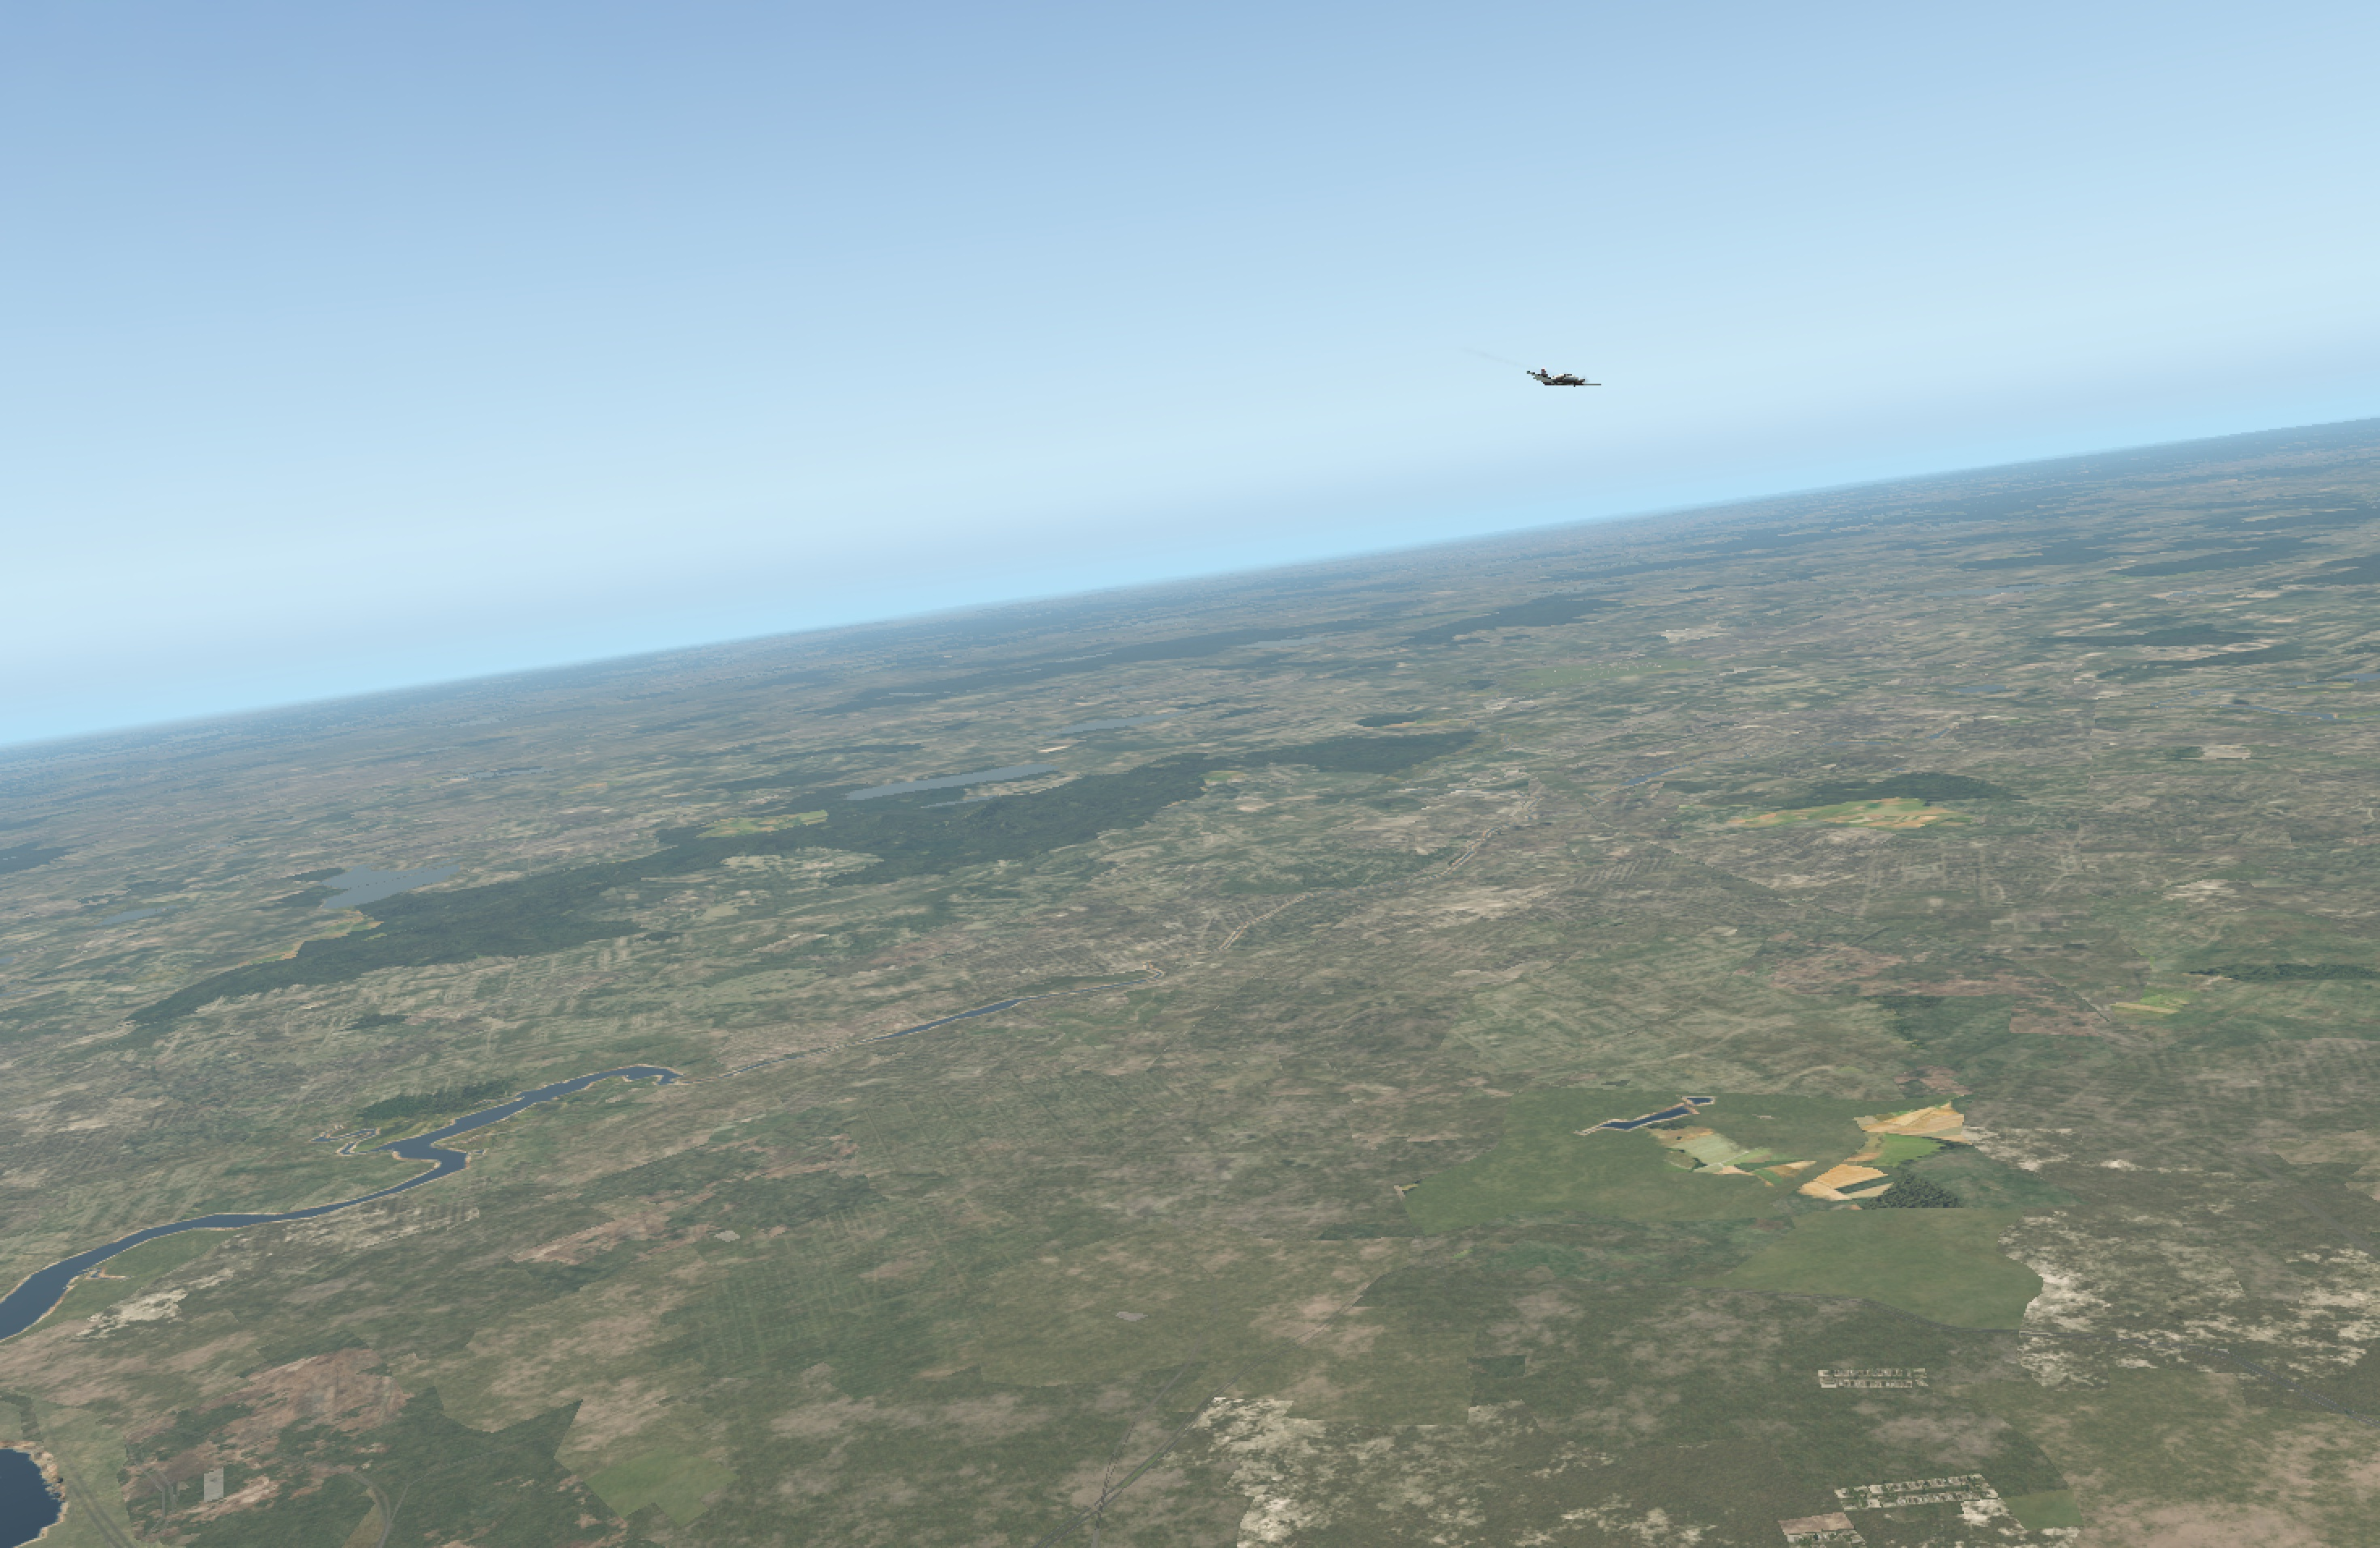aircraft: (1520, 366, 1612, 401)
